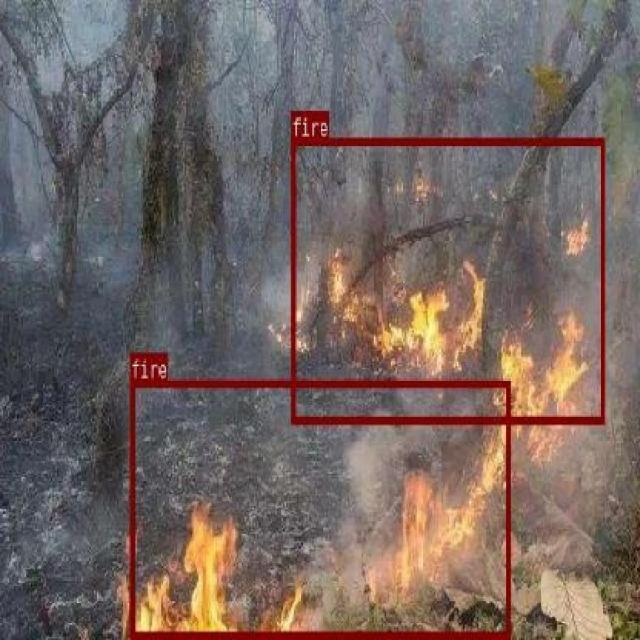Fire: (312, 204, 600, 438), (126, 450, 498, 628)
Smoke: (0, 0, 622, 617)
